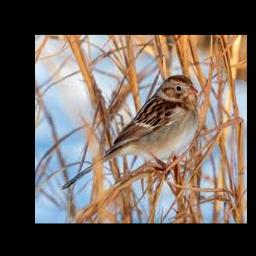Sparrow: (62, 75, 199, 190)
